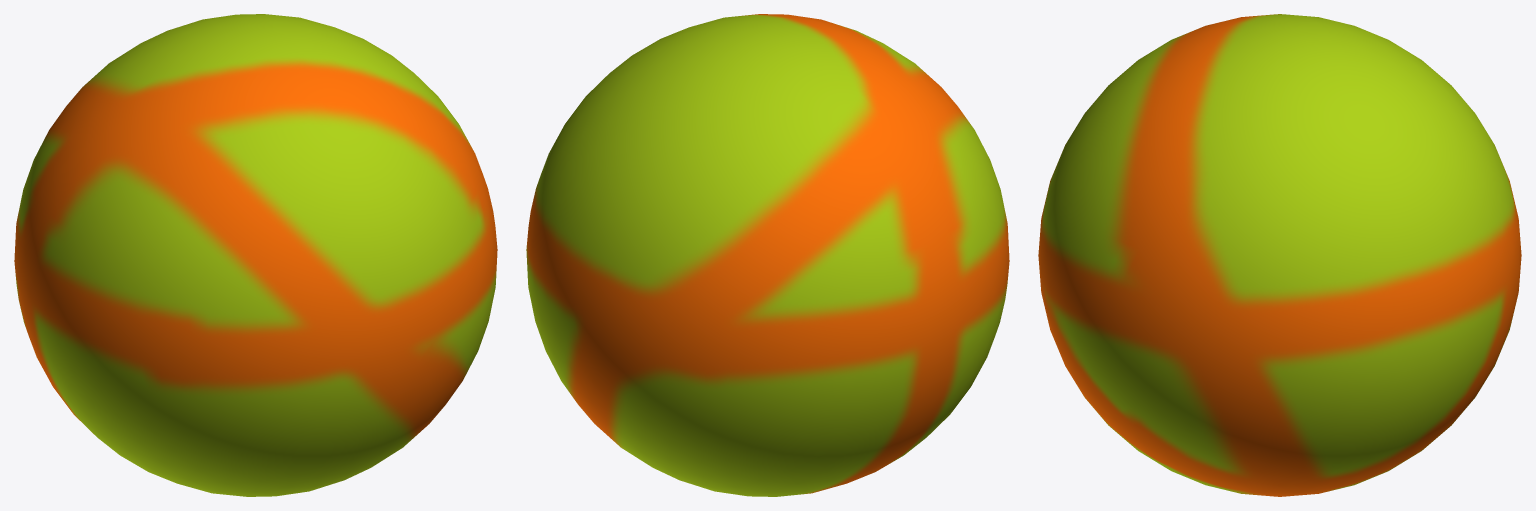
File: planet.obj
3 renders of one model, left to right at view 1: azimuth 30°, elevation 25°; view 2: azimuth 150°, elevation 25°; view 3: azimuth 270°, elevation 25°, orthographic.
Parts seen in each view (by area): view 1: Icosphere; view 2: Icosphere; view 3: Icosphere.
Boxes of the visible parts, bbox=[...] form: Icosphere: bbox=[14, 14, 497, 496]; Icosphere: bbox=[526, 14, 1009, 496]; Icosphere: bbox=[1038, 14, 1521, 496].
Size of the model in its own units: 2 by 2 by 2.
